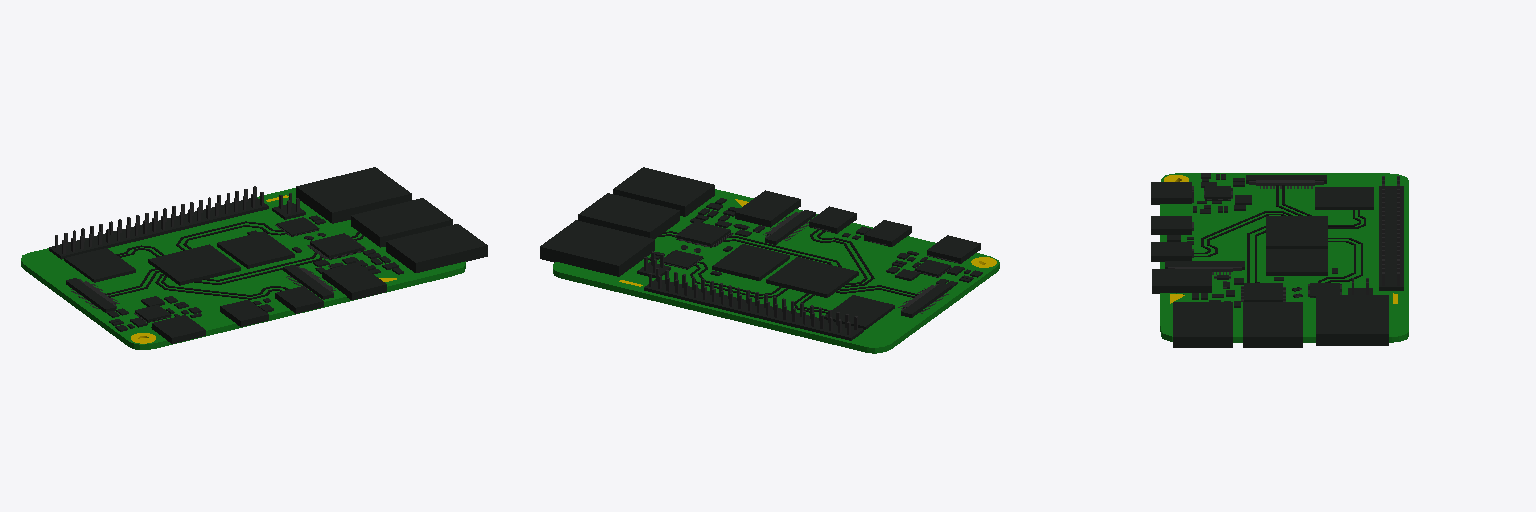
File: single-board-computer.obj
The picture shows the model from 3 angles: view 1: azimuth 30°, elevation 25°; view 2: azimuth 150°, elevation 25°; view 3: azimuth 270°, elevation 25°; orthographic projection.
Parts seen in each view (by area): view 1: Componetnts, Board, Pins, Wires; view 2: Componetnts, Board, Pins, Wires; view 3: Componetnts, Board, Pins, Wires.
Part boxes in pixels (x1,y1,x2,y2): Componetnts: (49,167,487,343); Board: (21,188,465,349); Pins: (55,186,365,327); Wires: (105,221,363,299); Componetnts: (540,167,982,340); Board: (553,189,999,353); Pins: (644,211,959,335); Wires: (658,229,918,313); Componetnts: (1151,173,1403,347); Board: (1160,173,1408,342); Pins: (1168,176,1399,301); Wires: (1194,185,1365,282).
Size of the model in its own units: 3.23 by 0.197 by 2.02.